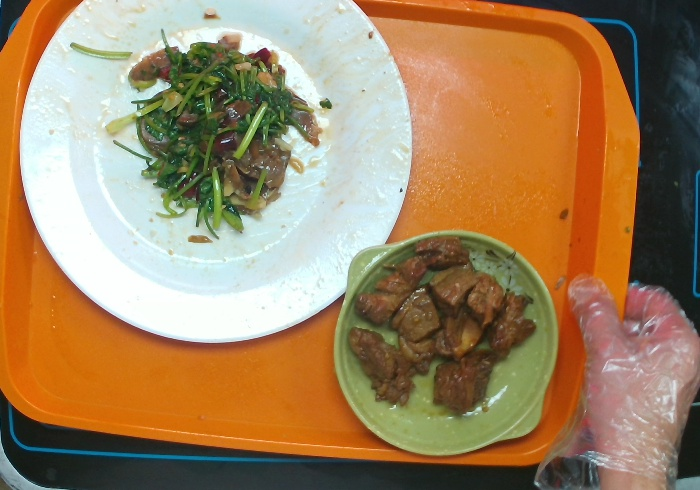NLDX-Da_Yuan_Pan: (15, 1, 421, 347)
NLDX-Lv_Hua_Shuang_Er_Die: (329, 225, 560, 463)
